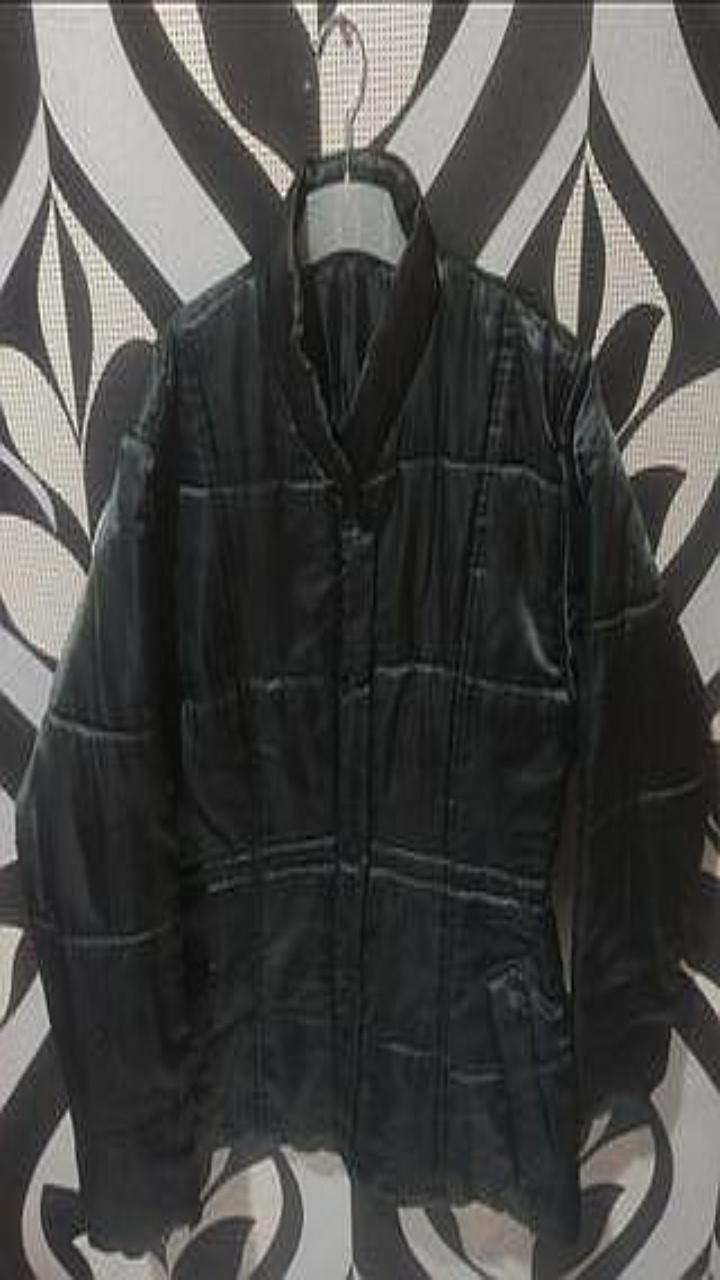Sports_Jacket: (16, 150, 711, 1254)
